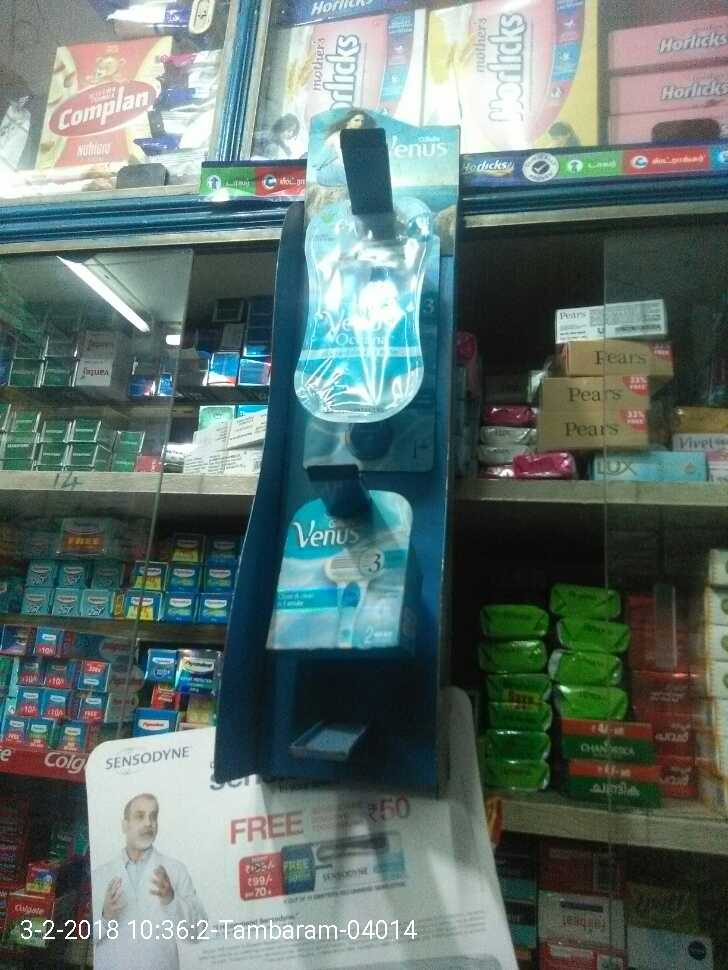venus: (298, 190, 420, 421), (277, 488, 411, 657)
